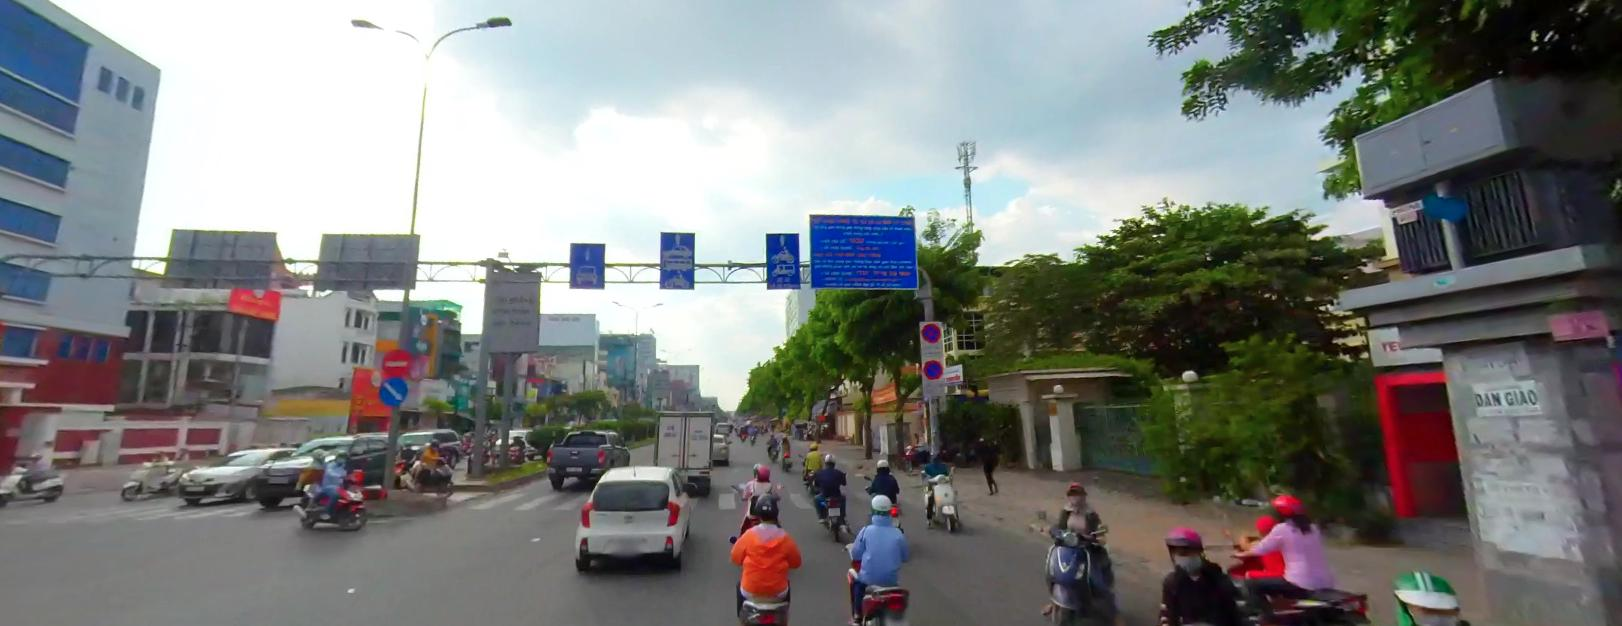Cam dung va do: (923, 358, 943, 379), (921, 320, 941, 341)
Cam nguoc chieu: (380, 348, 413, 373)
Hieu lenh: (378, 373, 408, 405)
